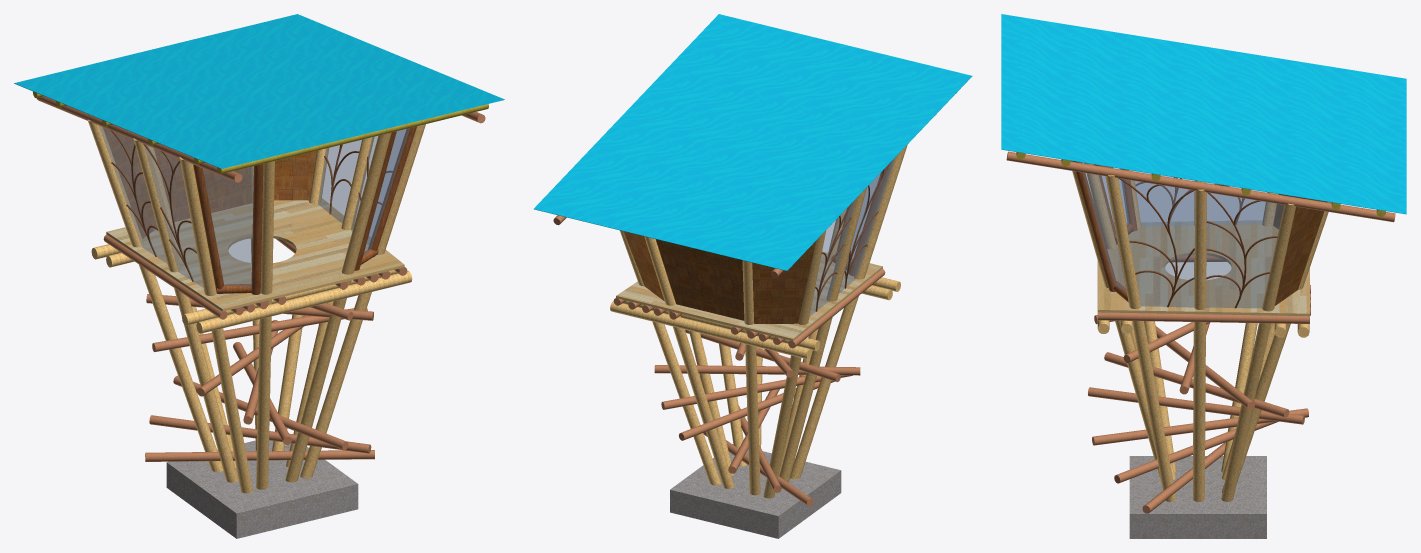
3 views of the same model, side by side, from view 1: azimuth 30°, elevation 25°; view 2: azimuth 150°, elevation 25°; view 3: azimuth 270°, elevation 25° (orthographic). The views are drawn at different scales.
Visible parts, largest first — view 1: 3DGeom-56, 3DGeom-52, 3DGeom-54, 3DGeom-61, 3DGeom-22, 3DGeom-27, 3DGeom-21, 3DGeom-20, 3DGeom-26, 3DGeom-25, 3DGeom-71, 3DGeom-78 (+27 smaller); view 2: 3DGeom-56, 3DGeom-54, 3DGeom-73, 3DGeom-52, 3DGeom-20, 3DGeom-77, 3DGeom-21, 3DGeom-29, 3DGeom-28, 3DGeom-22, 3DGeom-32, 3DGeom-23 (+17 smaller); view 3: 3DGeom-56, 3DGeom-52, 3DGeom-54, 3DGeom-68, 3DGeom-75, 3DGeom-25, 3DGeom-24, 3DGeom-23, 3DGeom-18, 3DGeom-74, 3DGeom-71, 3DGeom-66 (+17 smaller).
Part boxes in pixels (x1=…): 3DGeom-56: x1=14, y1=14, x2=504, y2=168; 3DGeom-52: x1=106, y1=198, x2=404, y2=311; 3DGeom-54: x1=166, y1=440, x2=358, y2=538; 3DGeom-61: x1=203, y1=166, x2=253, y2=286; 3DGeom-22: x1=88, y1=119, x2=223, y2=471; 3DGeom-27: x1=285, y1=132, x2=391, y2=482; 3DGeom-21: x1=133, y1=138, x2=238, y2=482; 3DGeom-20: x1=179, y1=157, x2=252, y2=493; 3DGeom-26: x1=256, y1=161, x2=274, y2=489; 3DGeom-25: x1=300, y1=124, x2=425, y2=478; 3DGeom-71: x1=144, y1=145, x2=202, y2=287; 3DGeom-78: x1=99, y1=126, x2=167, y2=263; 3DGeom-56: x1=534, y1=14, x2=972, y2=270; 3DGeom-54: x1=670, y1=444, x2=841, y2=538; 3DGeom-73: x1=655, y1=239, x2=744, y2=320; 3DGeom-52: x1=616, y1=251, x2=882, y2=340; 3DGeom-20: x1=790, y1=145, x2=907, y2=479; 3DGeom-77: x1=752, y1=241, x2=815, y2=323; 3DGeom-21: x1=779, y1=187, x2=866, y2=488; 3DGeom-29: x1=644, y1=236, x2=734, y2=488; 3DGeom-28: x1=742, y1=260, x2=760, y2=495; 3DGeom-22: x1=763, y1=230, x2=826, y2=498; 3DGeom-32: x1=610, y1=301, x2=811, y2=359; 3DGeom-23: x1=619, y1=230, x2=720, y2=485; 3DGeom-56: x1=1001, y1=14, x2=1406, y2=214; 3DGeom-52: x1=1098, y1=220, x2=1309, y2=316; 3DGeom-54: x1=1129, y1=456, x2=1266, y2=538; 3DGeom-68: x1=1118, y1=178, x2=1194, y2=307; 3DGeom-75: x1=1206, y1=193, x2=1284, y2=308; 3DGeom-25: x1=1105, y1=175, x2=1176, y2=501; 3DGeom-24: x1=1193, y1=189, x2=1206, y2=501; 3DGeom-23: x1=1221, y1=203, x2=1295, y2=501; 3DGeom-18: x1=1006, y1=151, x2=1395, y2=222; 3DGeom-74: x1=1275, y1=198, x2=1327, y2=305; 3DGeom-71: x1=1133, y1=171, x2=1194, y2=226; 3DGeom-66: x1=1080, y1=162, x2=1126, y2=291.
Bounding box in the file's own units: 3.5 × 5.17 × 4.43.
10 materials, 9 textured.
